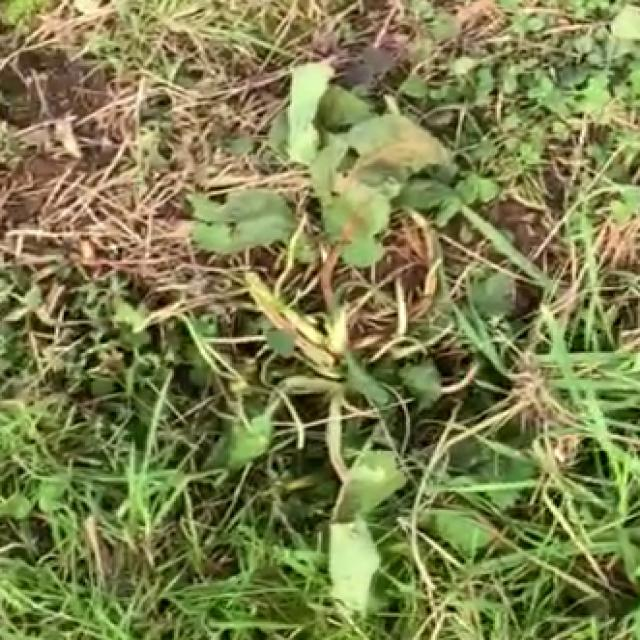organic waste: (176, 73, 468, 373), (236, 342, 495, 640)
